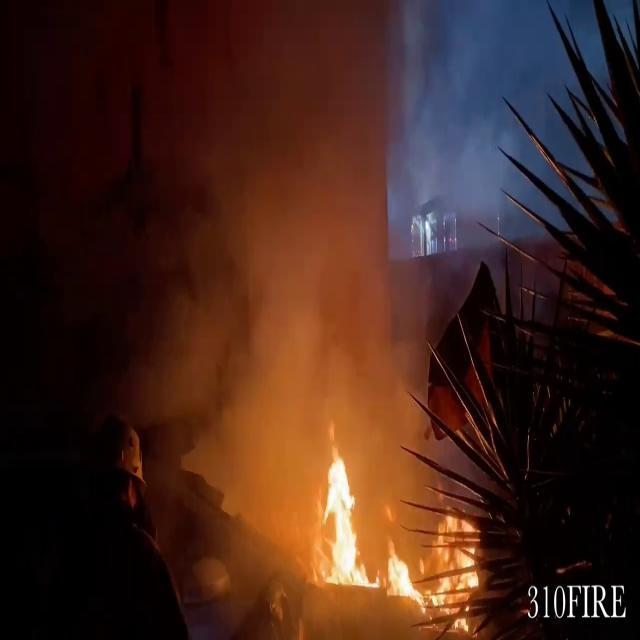Fire: (307, 442, 483, 628)
Smoke: (99, 0, 455, 509)
